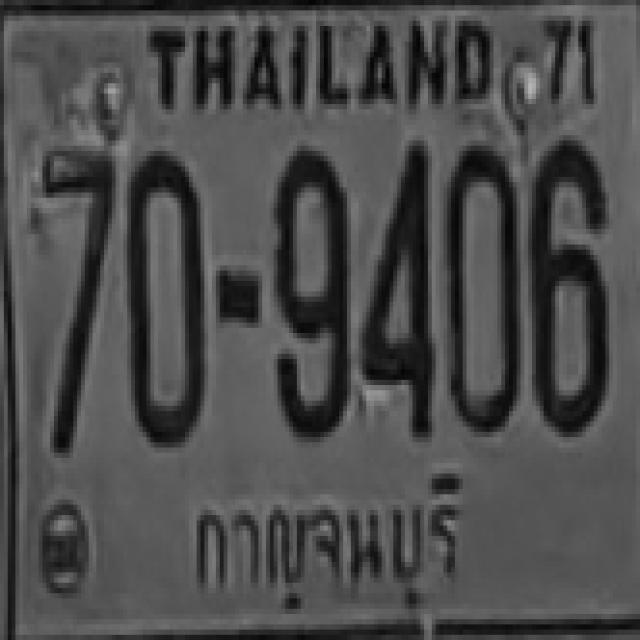0: (125, 151, 203, 446), (443, 140, 518, 432)
4: (358, 138, 432, 434)
6: (528, 135, 610, 435)
7: (40, 146, 114, 437)
9: (272, 146, 351, 440)
Kanchanaburi: (187, 470, 471, 618)
